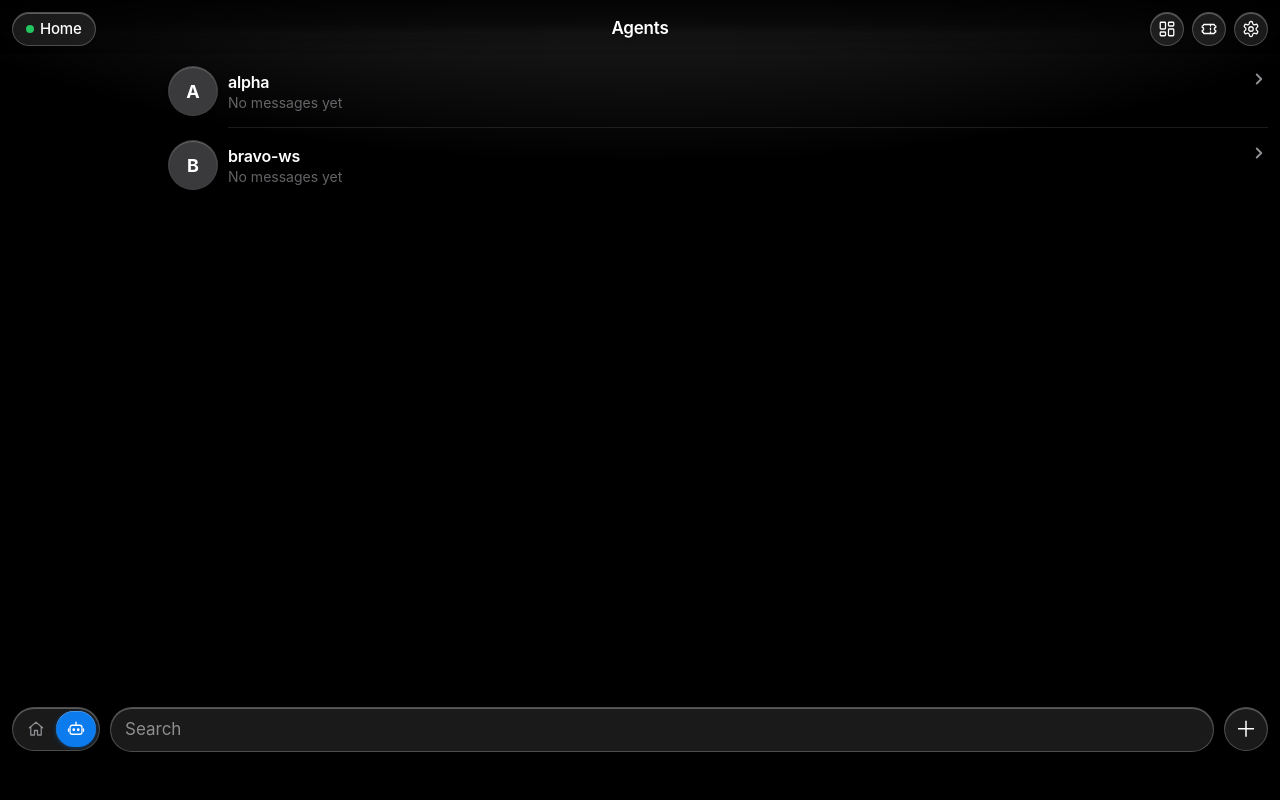
it: flag off (explicit): today's list, unchanged › an explicit off never touches other servers
Expected: the heading "Agents" is shown, 611,16 -> 669,42
Click the button with test id "chats-header-server" at (54, 29), box 12,12 -> 96,46
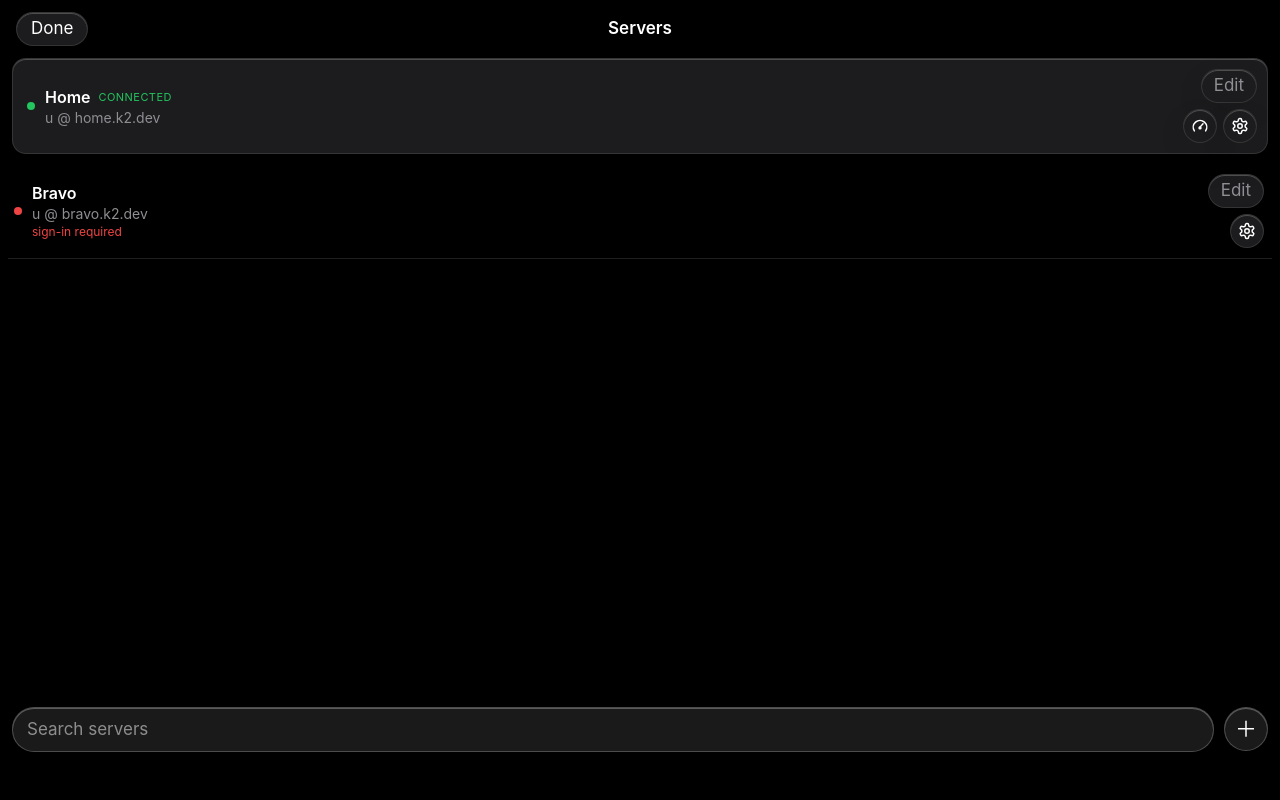
Expected: the element with test id "overlay-servers" is shown
